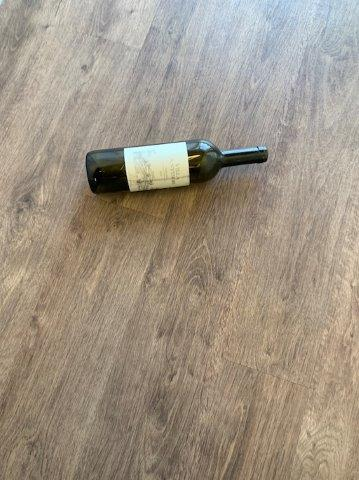botolkaca: (86, 138, 269, 193)
